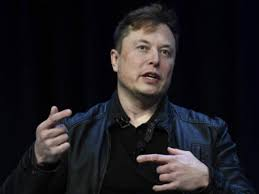No-Glasses: (121, 39, 182, 60)
